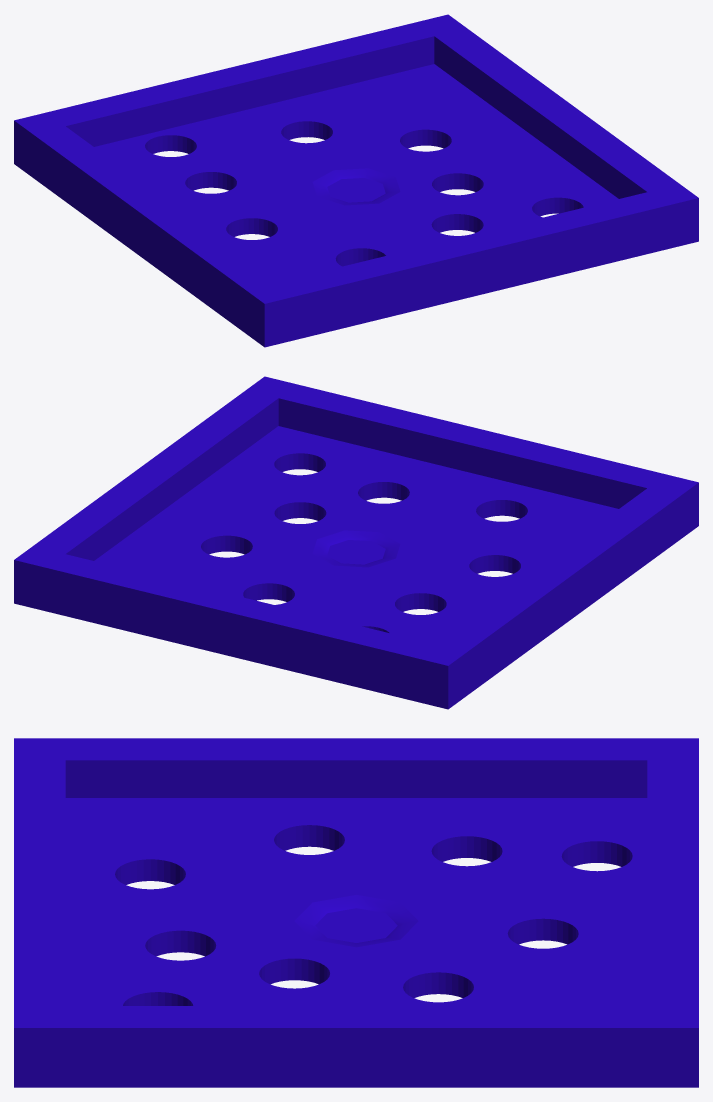
File: field.obj
The picture shows the model from 3 angles, top to bottom: view 1: azimuth 30°, elevation 25°; view 2: azimuth 150°, elevation 25°; view 3: azimuth 270°, elevation 25°; orthographic projection. The views are drawn at different scales.
Size of the model in its own units: 23.06 by 2.21 by 23.06.
